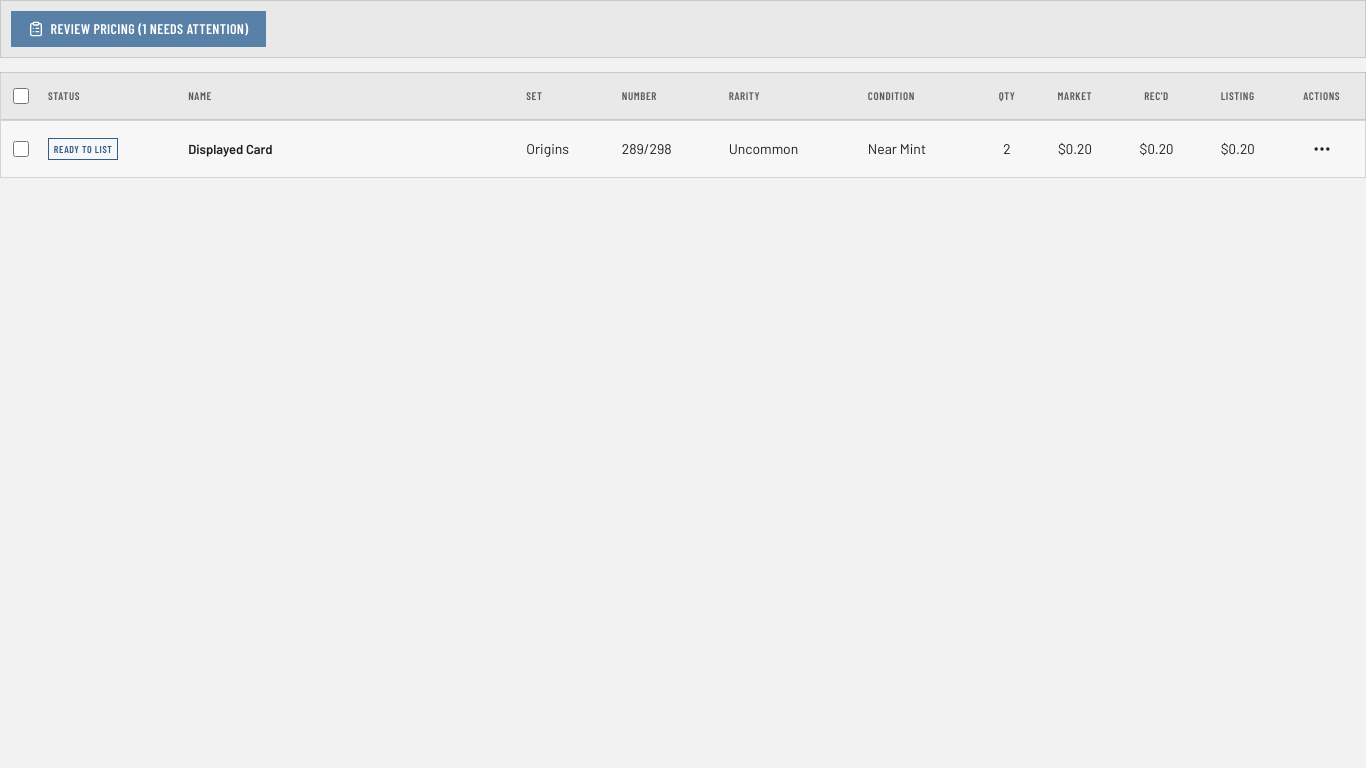
Test: CardTable pricing review › shows the review launcher from the global Needs Attention count and opens fetched cards
The image size is (1366, 768).
Click the button "Review Pricing (1 Needs Attention)".
click(138, 29)  # box [11,11,266,47]
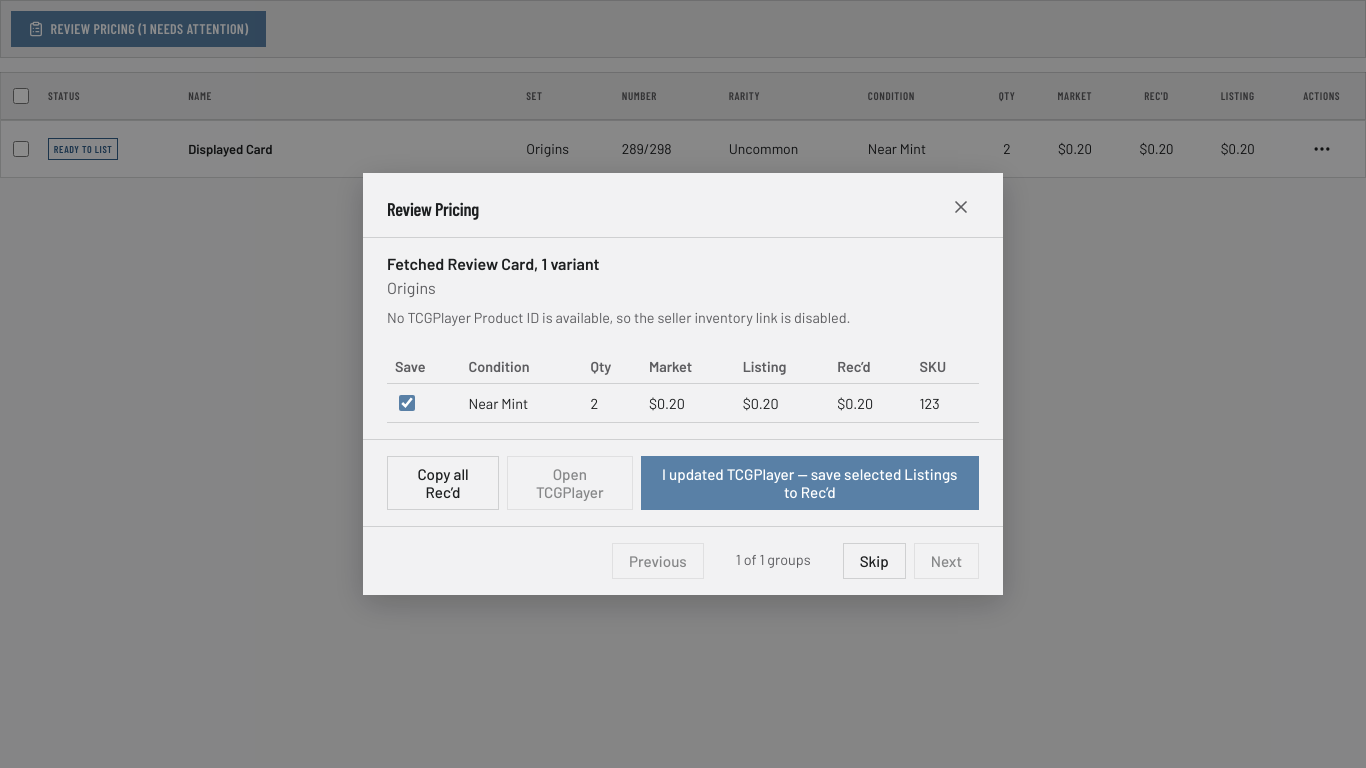
Check: the dialog named "pricing review" shows "Fetched Review Card", box [387,254,534,273]
Check: the dialog named "pricing review" shows "Market", box [649,358,692,375]
Check: the dialog named "pricing review" shows "Listing", box [743,358,786,375]
